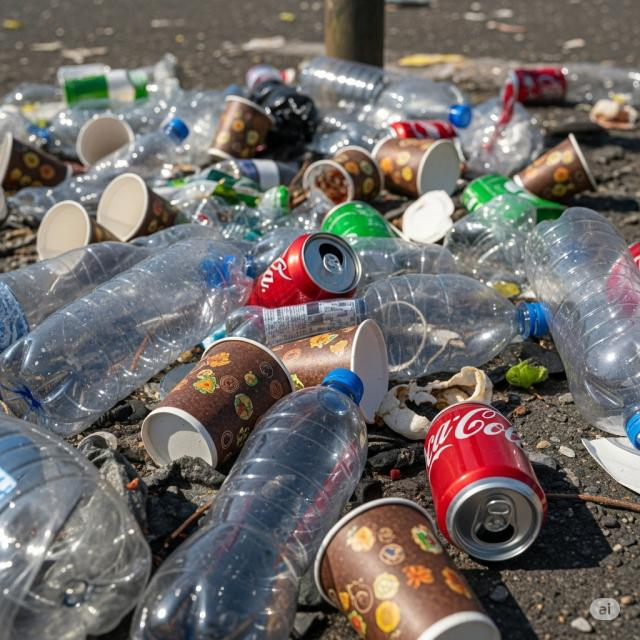aluminum: (423, 399, 553, 564), (252, 226, 367, 308)
paper: (316, 496, 506, 640), (143, 337, 298, 466), (278, 319, 388, 422)
plastic: (142, 365, 367, 640), (0, 235, 254, 447), (0, 402, 152, 639), (524, 207, 640, 447), (362, 262, 552, 381)
